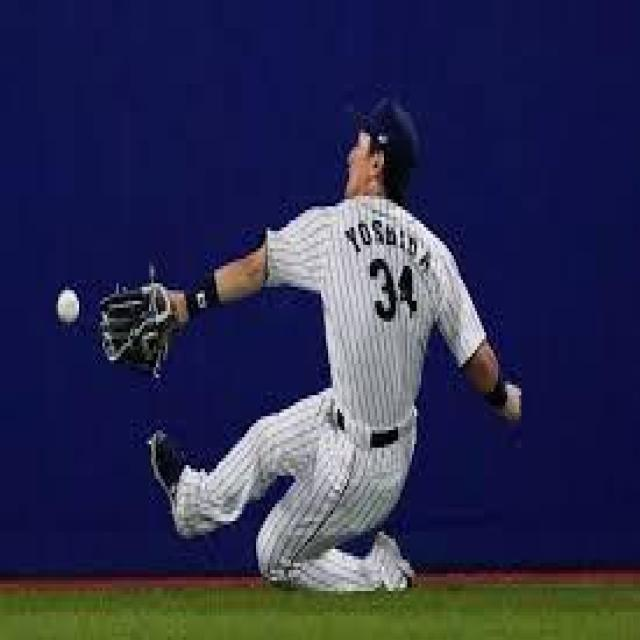ball: (49, 268, 92, 346)
